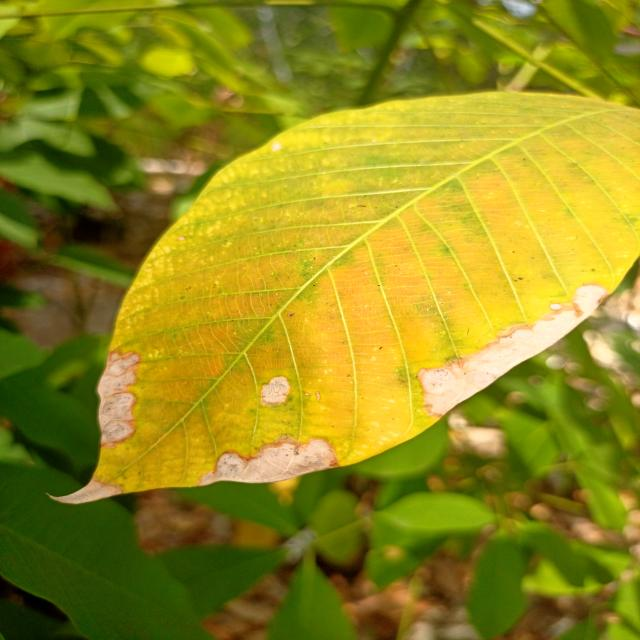Leaf-Blight: (418, 285, 607, 416), (198, 437, 339, 486), (98, 350, 142, 444), (46, 478, 124, 504), (261, 376, 291, 405)
